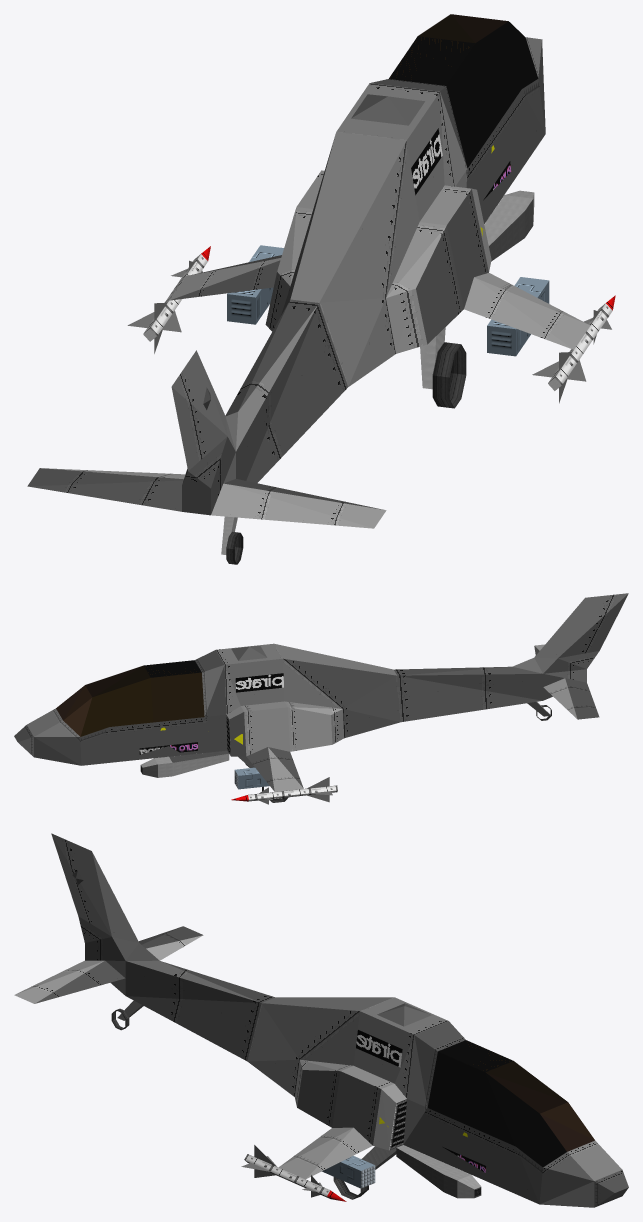
Rendered from primary_03.glb.
3 renders of one model, top to bottom at view 1: azimuth 30°, elevation 25°; view 2: azimuth 150°, elevation 25°; view 3: azimuth 270°, elevation 25°, orthographic. The views are drawn at different scales.
Parts seen in each view (by area): view 1: Object; view 2: Object; view 3: Object.
Part boxes in pixels (x1=…): Object: x1=27, y1=14, x2=615, y2=564; Object: x1=14, y1=593, x2=628, y2=804; Object: x1=14, y1=833, x2=628, y2=1207.
Bounding box in the file's own units: 11.12 × 3.9 × 10.83.
38 materials, 38 textured.
